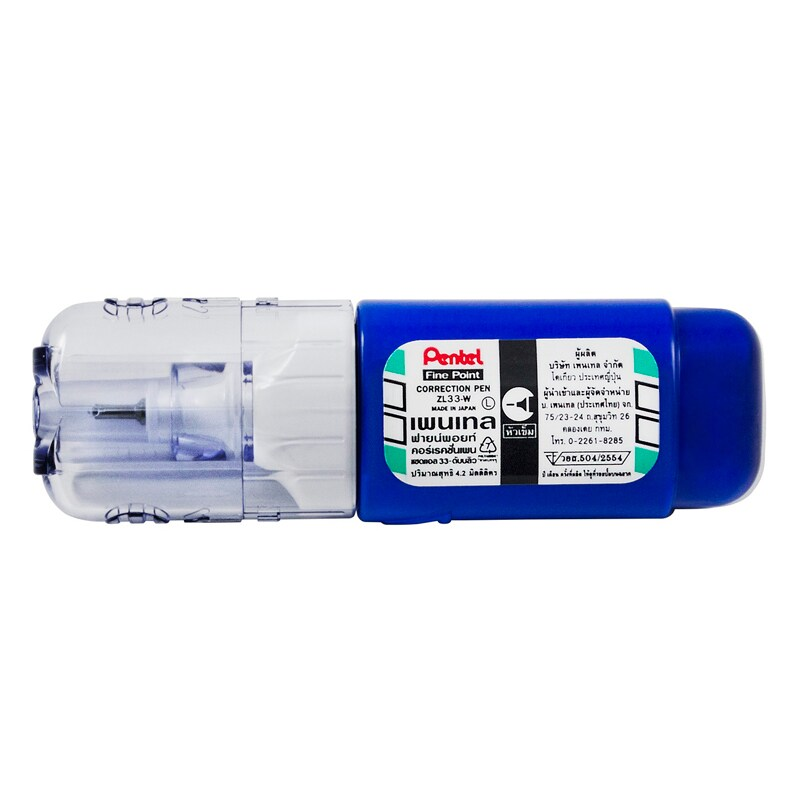Correction_fluid: (24, 287, 773, 536)
